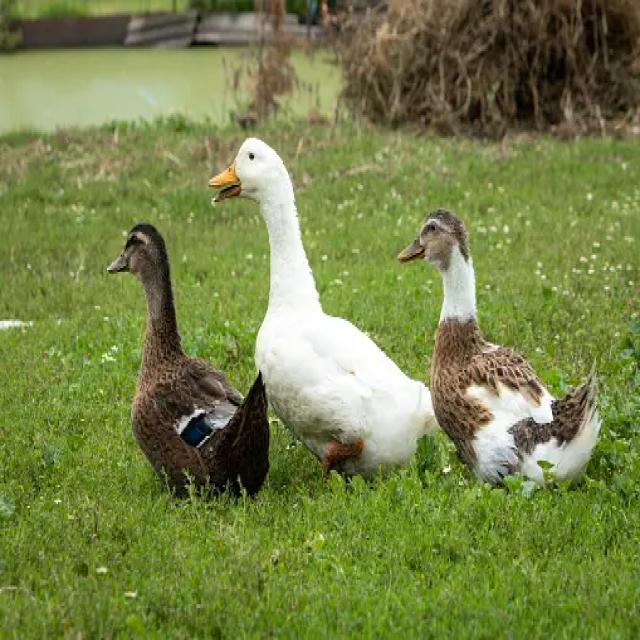ducks: (221, 114, 425, 498), (394, 200, 614, 531), (100, 202, 268, 523)
